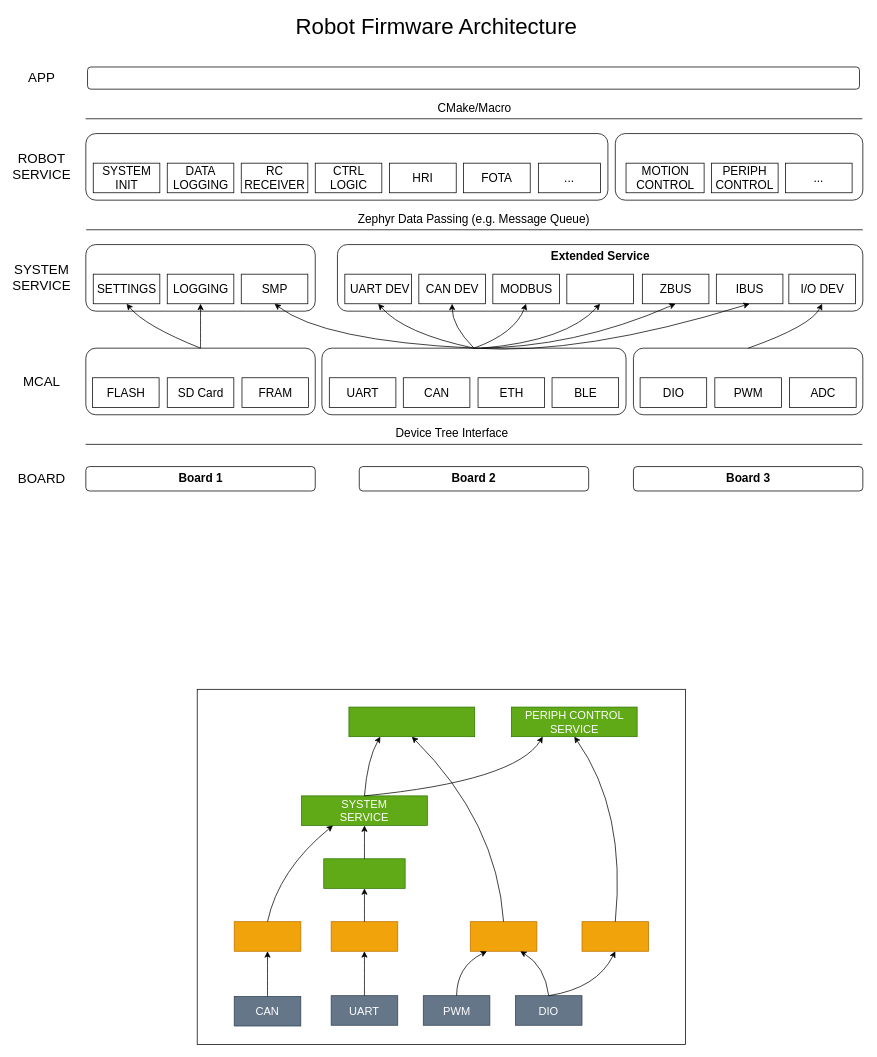
Image size: 877x1057. Some labels were removed from this diagram. The shapes that lost their labels are listed below. From the top down, each one's box as (x1, y1, x2, y2) in pixels, then its label:
(87, 66, 860, 89): Setup
(85, 133, 608, 200): General Service
(615, 133, 863, 200): Robot-Specific Service
(85, 244, 315, 311): Common Service
(566, 273, 633, 304): CANOPEN
(85, 347, 315, 415): Memory
(321, 347, 626, 415): Communication
(633, 347, 863, 415): I/O
(348, 706, 475, 737): MOTION CONTROL SERVICE
(323, 858, 405, 888): RC CONTROL SERVICE
(233, 921, 301, 951): CANOPEN SERVICE
(330, 921, 398, 951): RECEIVER SERVICE
(470, 921, 537, 951): ACTUATOR SERVICE
(581, 921, 649, 951): LIGHT SERVICE
